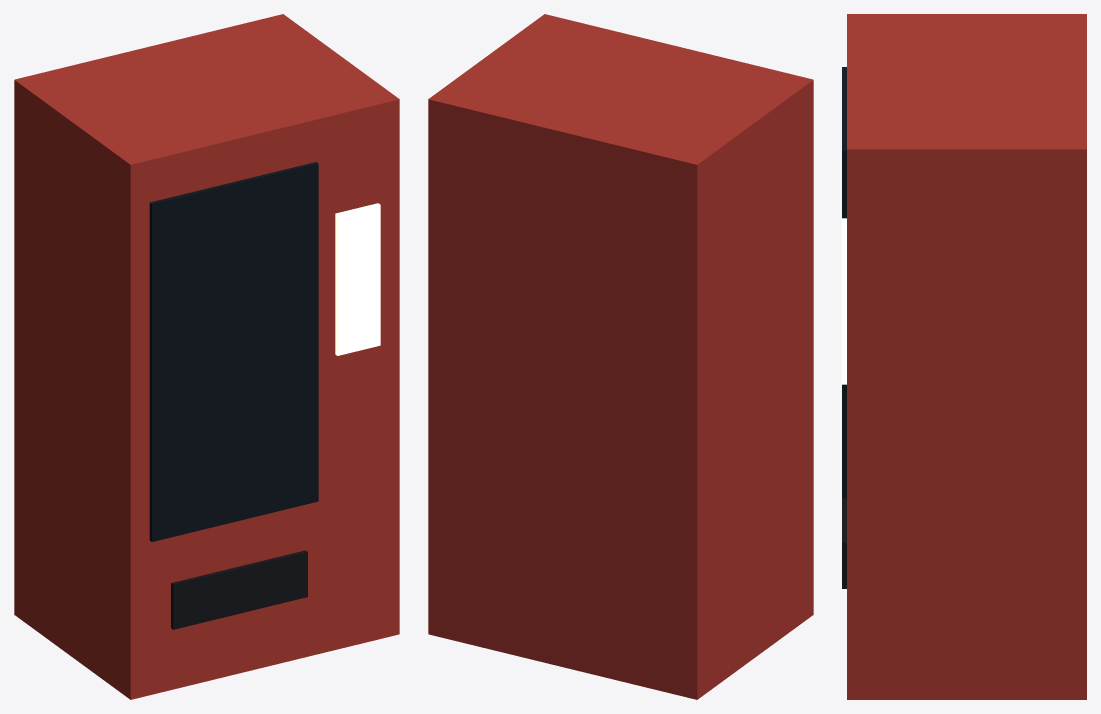
File: vending.glb
3 views of the same model, side by side, from view 1: azimuth 30°, elevation 25°; view 2: azimuth 150°, elevation 25°; view 3: azimuth 270°, elevation 25° (orthographic). The views are drawn at different scales.
Parts seen in each view (by area): view 1: vending_Body; view 2: vending_Body; view 3: vending_Body.
Boxes of the visible parts, x1=… form: vending_Body: x1=14, y1=14, x2=399, y2=699; vending_Body: x1=428, y1=14, x2=813, y2=699; vending_Body: x1=842, y1=14, x2=1086, y2=699.
Bounding box in the file's own units: 1 × 1.9 × 0.765.
